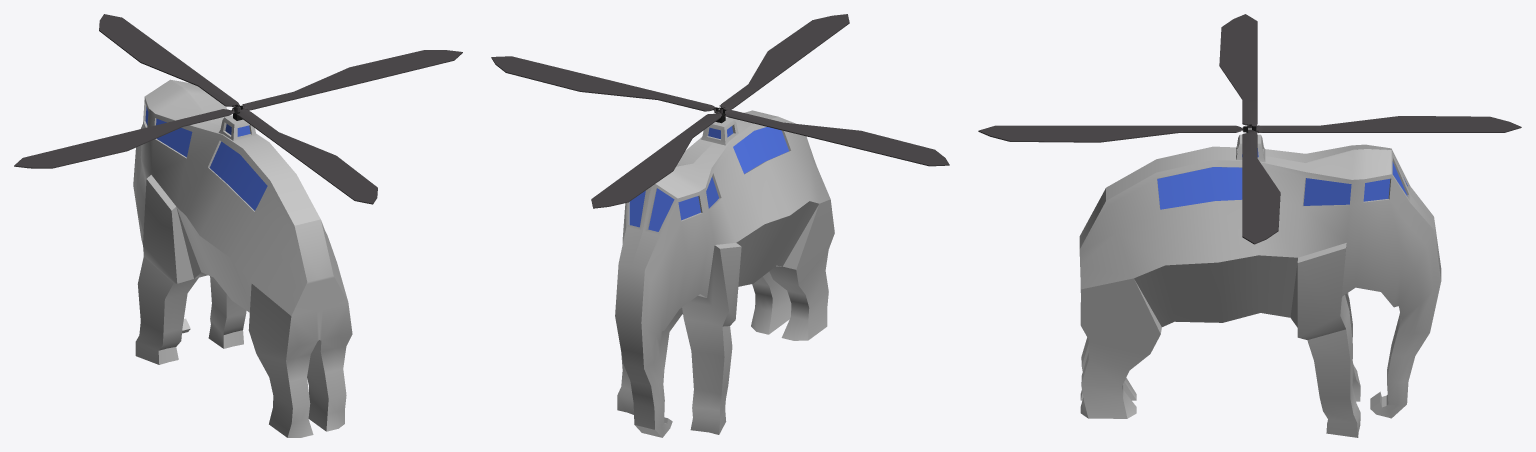
File: elecopter.fbx
The picture shows the model from 3 angles, left to right: view 1: azimuth 30°, elevation 25°; view 2: azimuth 150°, elevation 25°; view 3: azimuth 270°, elevation 25°; orthographic projection. The views are drawn at different scales.
Parts seen in each view (by area): view 1: Plane; view 2: Plane; view 3: Plane.
Part boxes in pixels (x1,y1,x2,y2): Plane: (14,14,462,437); Plane: (491,14,949,437); Plane: (978,14,1521,437).
Size of the model in its own units: 548 by 319 by 548.
